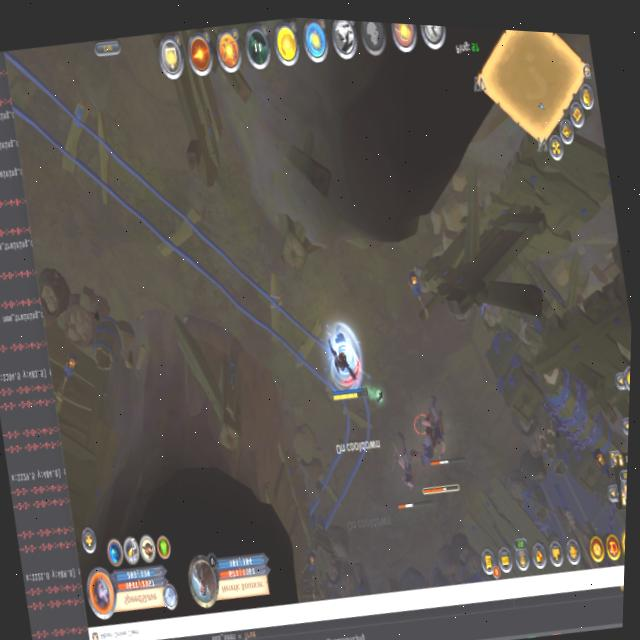ore: (377, 416, 439, 523), (406, 406, 466, 504), (416, 386, 469, 468)
red: (315, 314, 374, 411)
